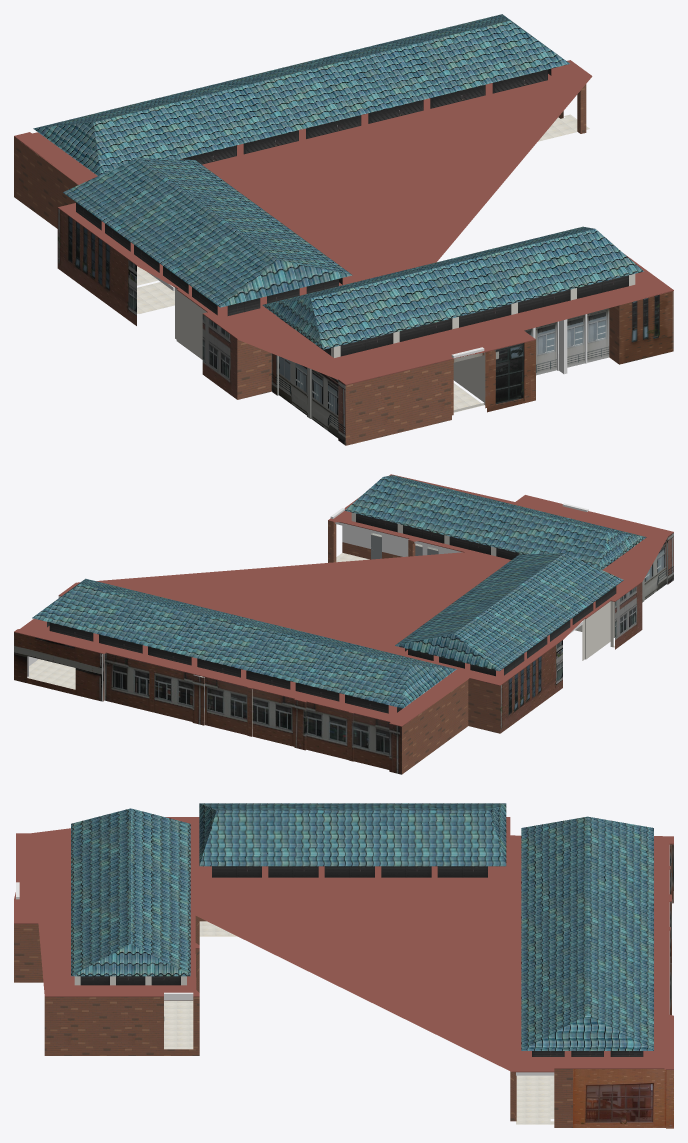
File: floor1.FBX
3 renders of one model, top to bottom at view 1: azimuth 30°, elevation 25°; view 2: azimuth 150°, elevation 25°; view 3: azimuth 270°, elevation 25°, orthographic. The views are drawn at different scales.
Parts seen in each view (by area): view 1: Line001, phxx1917, phxx1923, phxx1920, phxx1473_001, phxx1473_002, phxx1473_004, phxx1918, phxx1473_003, phxx1921, phxx1473_011, phxx1924 (+1 smaller); view 2: Line001, phxx1917, phxx1473_005, phxx1923, phxx1920, phxx1473_001, phxx1473_004, phxx1473_006, phxx1918, phxx1473_011, phxx1924, phxx1921 (+4 smaller); view 3: Line001, phxx1917, phxx1923, phxx1920, phxx1473_001, phxx1473_007, phxx1473_010, phxx1924, phxx1921, phxx1473_005, phxx1918.
Part boxes in pixels (x1,y1,x2,y2): Line001: (14, 60, 673, 385); phxx1917: (33, 14, 569, 175); phxx1923: (63, 158, 352, 307); phxx1920: (262, 226, 643, 349); phxx1473_001: (14, 84, 619, 445); phxx1473_002: (485, 291, 673, 412); phxx1473_004: (57, 208, 237, 399); phxx1918: (181, 68, 551, 164); phxx1473_003: (271, 353, 345, 445); phxx1921: (280, 275, 628, 356); phxx1473_011: (175, 288, 485, 412); phxx1924: (76, 202, 342, 315); Line001: (14, 474, 673, 726); phxx1917: (32, 578, 456, 708); phxx1473_005: (103, 653, 401, 774); phxx1923: (395, 553, 623, 671); phxx1920: (345, 475, 646, 569); phxx1473_001: (328, 521, 500, 774); phxx1473_004: (500, 582, 642, 733); phxx1473_006: (14, 632, 102, 701); phxx1918: (47, 622, 402, 713); phxx1473_011: (371, 532, 614, 660); phxx1924: (405, 586, 616, 676); phxx1921: (356, 513, 632, 569); Line001: (14, 817, 673, 1072); phxx1917: (521, 816, 653, 1050); phxx1923: (199, 803, 506, 866); phxx1920: (71, 808, 190, 976); phxx1473_001: (14, 916, 572, 1127); phxx1473_007: (573, 1069, 673, 1128); phxx1473_010: (164, 921, 554, 1124); phxx1924: (212, 866, 487, 877); phxx1921: (80, 976, 180, 985); phxx1473_005: (669, 844, 673, 1014); phxx1918: (532, 1051, 643, 1056).
Size of the model in its own units: 37.57 by 6.8 by 41.18.
17 materials, 16 textured.
